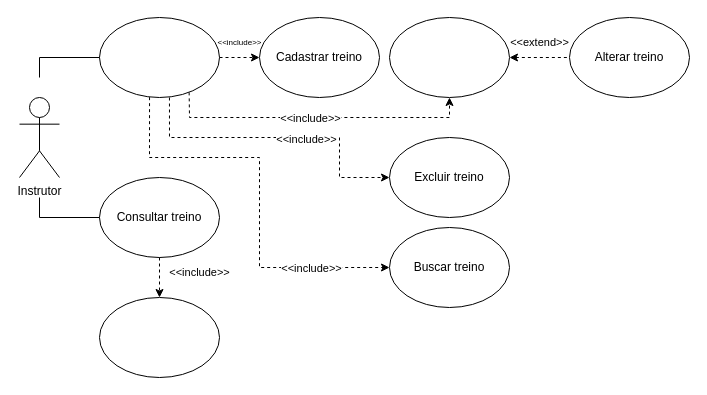
Image size: 707x395. Some labels were removed from this diagram. Each missing label, with the box of its shape:
Emitir ficha de treino: (98, 296, 220, 378)
Exibir treino: (388, 16, 510, 98)
Gerenciar treino: (98, 16, 220, 98)
